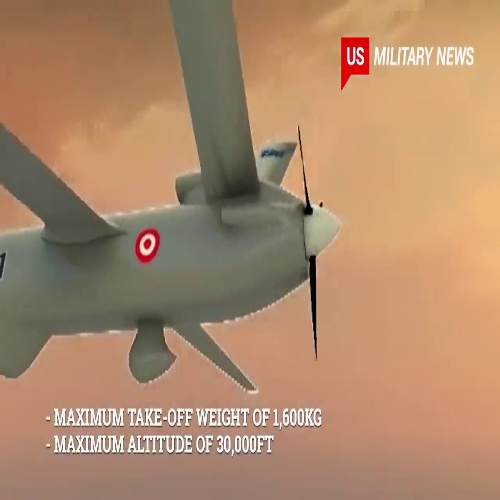uav78: (1, 21, 343, 396)
